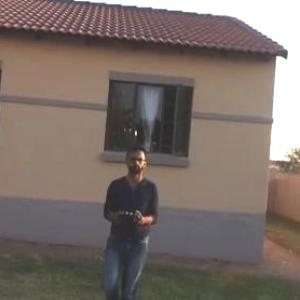follow: (95, 141, 163, 299)
